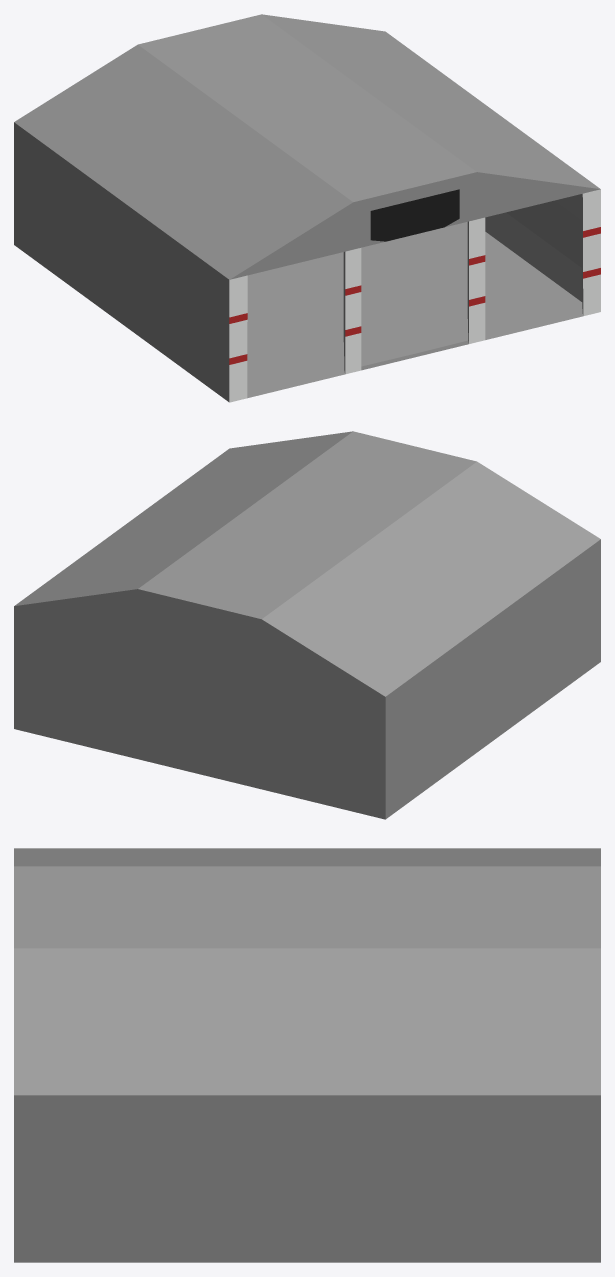
Rendered from hanger.fbx.
3 views of the same model, one above another, from view 1: azimuth 30°, elevation 25°; view 2: azimuth 150°, elevation 25°; view 3: azimuth 270°, elevation 25° (orthographic). The views are drawn at different scales.
Visible parts, largest first — view 1: Cube.001; view 2: Cube.001; view 3: Cube.001.
Part boxes in pixels (left/top/right/bottom): Cube.001: left=14, top=14, right=600, bottom=402; Cube.001: left=14, top=431, right=600, bottom=819; Cube.001: left=14, top=848, right=600, bottom=1262.
Size of the model in its own units: 862 by 377 by 866.
